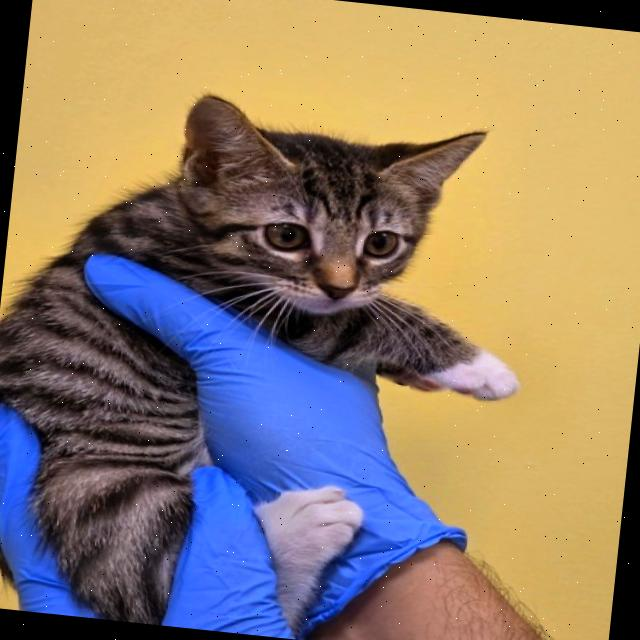domestic_short_hair_cat: (135, 74, 526, 348)
